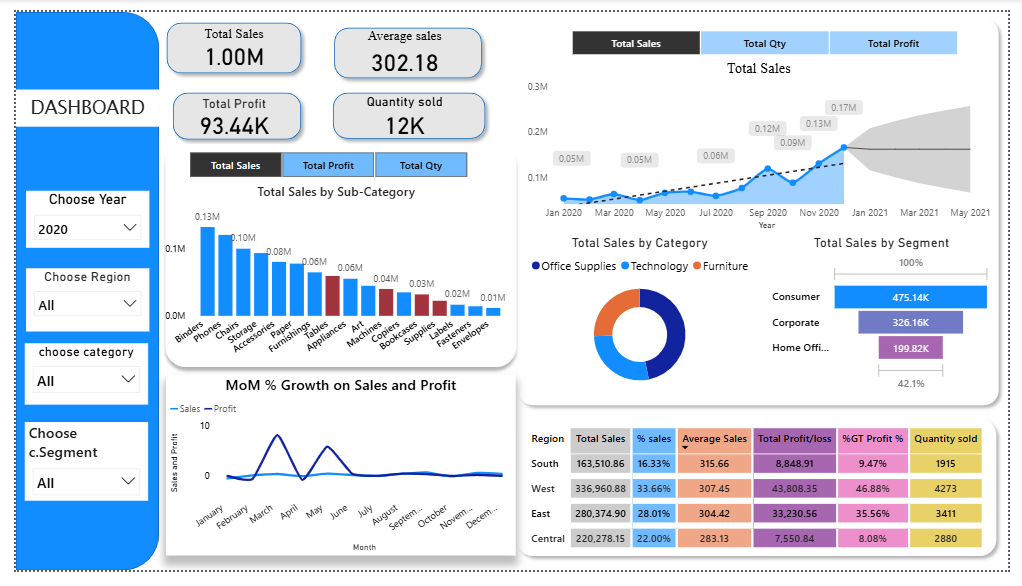

The page's visual inventory and layout, read from the dashboard file:
{"tool":"powerbi","page":{"name":"Page 2","canvas":[1280,720],"ordinal":1},"visuals":[{"type":"shape","box":[0,0,184.6,720.2],"z":0},{"type":"shape","box":[185,5,191.7,83.3],"z":1000},{"type":"shape","box":[193.3,95,183.3,78.3],"z":2000},{"type":"shape","box":[639.4,0,638.1,516.3],"z":3000},{"type":"shape","box":[401.7,11.7,208.3,83.3],"z":4000},{"type":"card","title":"Total Sales","fields":{"Values":["saless.totalsales"]},"box":[205,18.3,153.3,58.3],"z":5000},{"type":"card","title":"Average sales","fields":{"Values":["saless.average sales"]},"box":[398.3,21.7,206.7,66.7],"z":6000},{"type":"lineChart","fields":{"Y":["saless.totalsales"],"Category":["date.Date.Variation.Date Hierarchy.Year","date.Date.Variation.Date Hierarchy.Month"]},"box":[654.7,60.9,607.6,225.6],"z":7000},{"type":"slicer","fields":{"Values":["metrix.metrix"]},"box":[692.1,17.1,546.6,44],"z":8000},{"type":"shape","box":[400,95.2,214.5,77.4],"z":9000},{"type":"donutChart","fields":{"Y":["saless.totalsales"],"Category":["saless.Category"]},"box":[654.7,287.9,300.3,207.6],"z":10000},{"type":"funnel","fields":{"Y":["saless.totalsales"],"Category":["saless.Segment"]},"box":[970.2,287.9,292,207.6],"z":11000},{"type":"card","title":"Total Profit","fields":{"Values":["saless.tprofit"]},"box":[198.3,108.3,166.7,55],"z":12000},{"type":"card","title":"Quantity sold","fields":{"Values":["saless.total Qty"]},"box":[429,104.8,145.2,61.3],"z":13000},{"type":"shape","box":[636.7,516,636.7,194.9],"z":14000},{"type":"pivotTable","fields":{"Rows":["saless.Region"],"Values":["saless.totalsales","saless.Sales contribution","saless.average sales","saless.tprofit","saless.Profit %","saless.total Qty"]},"box":[655,531.7,608.3,180],"z":15000},{"type":"slicer","title":"Choose Year","fields":{"Values":["saless.year"]},"box":[13.5,231.1,159,73.4],"z":16000},{"type":"slicer","title":"Choose Region","fields":{"Values":["saless.Region"]},"box":[13.5,330.2,159,81.9],"z":17000},{"type":"slicer","title":"choose category","fields":{"Values":["saless.Category"]},"box":[11,428,159,79.5],"z":18000},{"type":"slicer","title":"Choose c.Segment","fields":{"Values":["saless.Segment"]},"box":[11,529.5,159,101.5],"z":19000},{"type":"textbox","box":[0,100.3,184.6,47.7],"z":20000},{"type":"lineChart","title":"MoM % Growth on Sales and Profit ","fields":{"Category":["date.Date.Variation.Date Hierarchy.Month"],"Y":["saless.MoM Growth %","saless.MoM profit %"]},"box":[193.2,468.3,451.2,233.6],"z":21000},{"type":"shape","box":[184.6,161.4,470.8,305.7],"z":22000},{"type":"columnChart","fields":{"Y":["saless.totalsales"],"Category":["saless.Sub-Category"]},"box":[187.1,218.9,452.4,240.9],"z":23000},{"type":"slicer","fields":{"Values":["filt.filt"]},"box":[198.1,173.6,407.2,45.2],"z":24000}]}

Visuals, with their boxes in screenshot pixels (x1, y1, x2, y2), scaled from the page's 1280x720 canvas onto the 1022x586 screenshot:
shape: region(0, 0, 147, 585)
shape: region(148, 4, 301, 72)
shape: region(154, 77, 301, 141)
shape: region(511, 0, 1020, 420)
shape: region(321, 10, 487, 77)
"Total Sales" card: region(164, 15, 286, 62)
"Average sales" card: region(318, 18, 483, 72)
lineChart - saless.totalsales x date.Date.Variation.Date Hierarchy.Year: region(523, 50, 1008, 233)
slicer - metrix.metrix: region(553, 14, 989, 50)
shape: region(319, 77, 491, 140)
donutChart - saless.totalsales x saless.Category: region(523, 234, 763, 403)
funnel - saless.totalsales x saless.Segment: region(775, 234, 1008, 403)
"Total Profit" card: region(158, 88, 291, 133)
"Quantity sold" card: region(343, 85, 458, 135)
shape: region(508, 420, 1017, 579)
pivotTable - saless.Region x saless.totalsales: region(523, 433, 1009, 579)
"Choose Year" slicer: region(11, 188, 138, 248)
"Choose Region" slicer: region(11, 269, 138, 335)
"choose category" slicer: region(9, 348, 136, 413)
"Choose c.Segment" slicer: region(9, 431, 136, 514)
textbox: region(0, 82, 147, 120)
"MoM % Growth on Sales and Profit " lineChart: region(154, 381, 515, 571)
shape: region(147, 131, 523, 380)
columnChart - saless.totalsales x saless.Sub-Category: region(149, 178, 511, 374)
slicer - filt.filt: region(158, 141, 483, 178)
